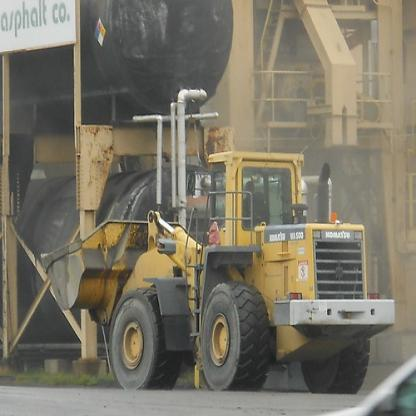bull_dozer/loader/grader: (36, 129, 392, 395)
